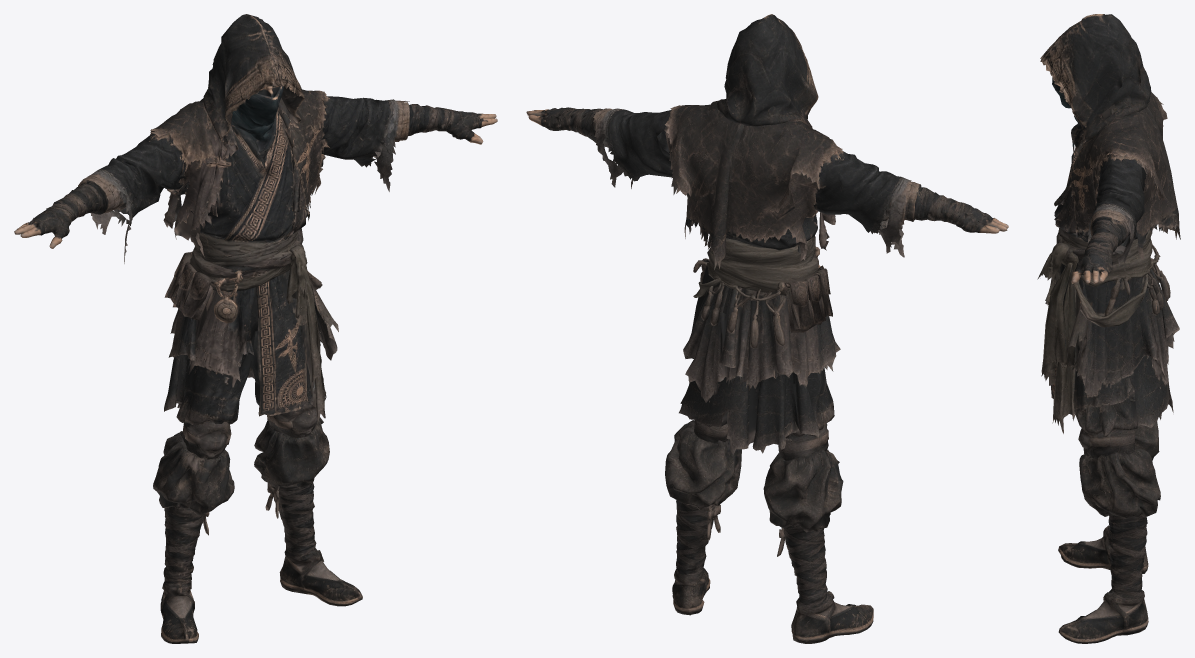
Rendered from ninja_mesh.fbx.
The picture shows the model from 3 angles, left to right: view 1: azimuth 30°, elevation 25°; view 2: azimuth 150°, elevation 25°; view 3: azimuth 270°, elevation 25°; orthographic projection. The views are drawn at different scales.
Parts seen in each view (by area): view 1: Mesh_0; view 2: Mesh_0; view 3: Mesh_0.
Boxes of the visible parts, <box> form: Mesh_0: <box>14,14,497,643</box>; Mesh_0: <box>526,14,1008,643</box>; Mesh_0: <box>1037,14,1180,643</box>.
Bounding box in the file's own units: 80.22 × 95.02 × 21.14.
1 material, 1 textured.
